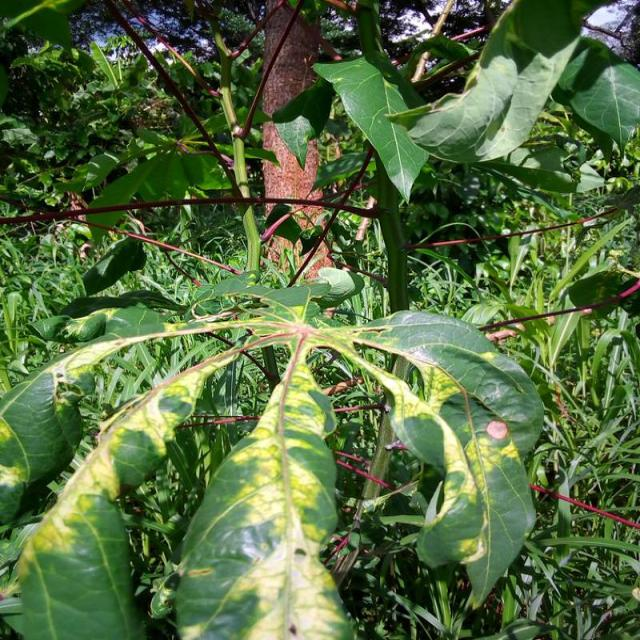cassava leaf: (15, 344, 244, 638), (172, 352, 355, 638), (310, 54, 430, 204)
